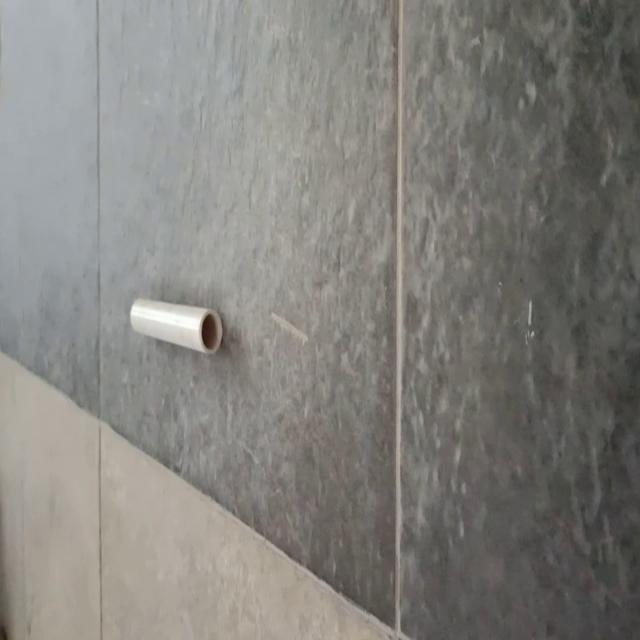Cube: (129, 296, 223, 356)
